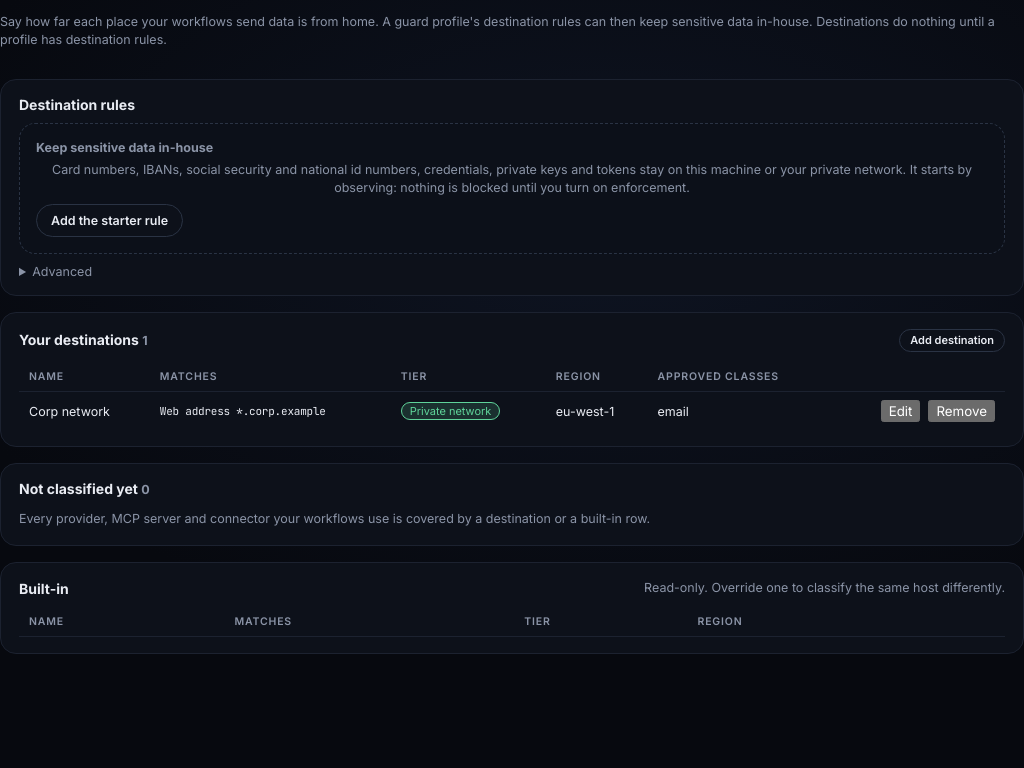
Scenario: DataDestinationsView › shows the API's plain message when a save is refused
The width and height of the screenshot is (1024, 768).
expect the table named "Your destinations" is shown: met, box x1=19 y1=362 x2=1005 y2=430
Click the button "Add destination" at (952, 341), box x1=899 y1=329 x2=1005 y2=352
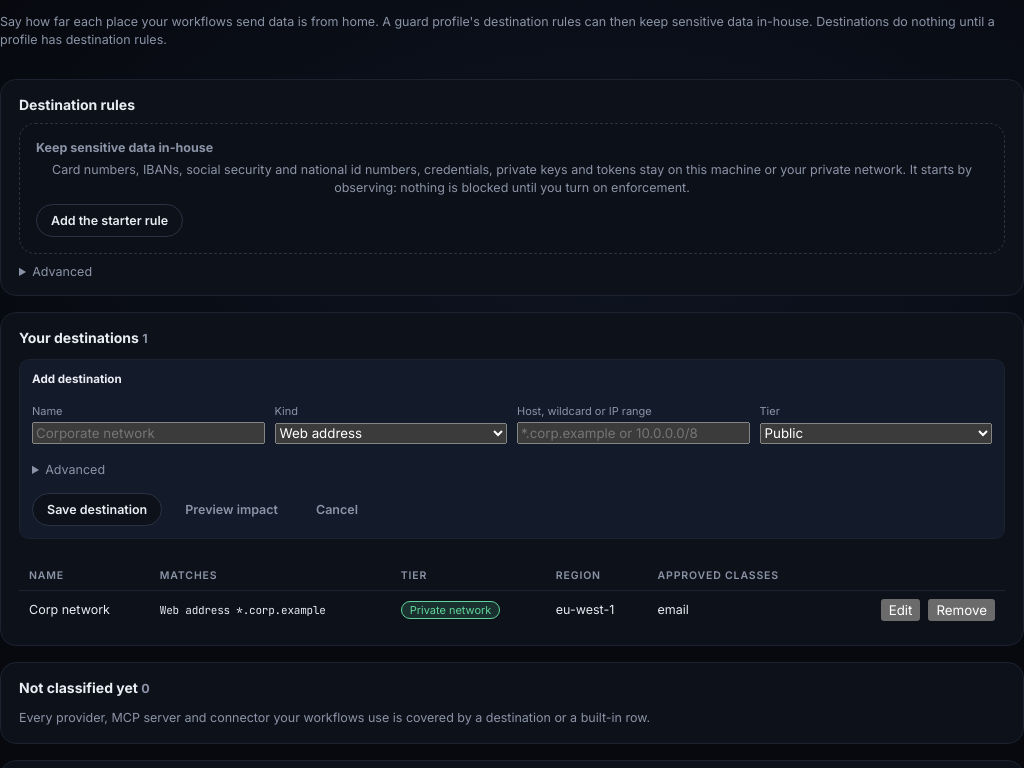
Type "Bad" into the field labelled "Name" at (148, 433), box x1=32 y1=422 x2=264 y2=444
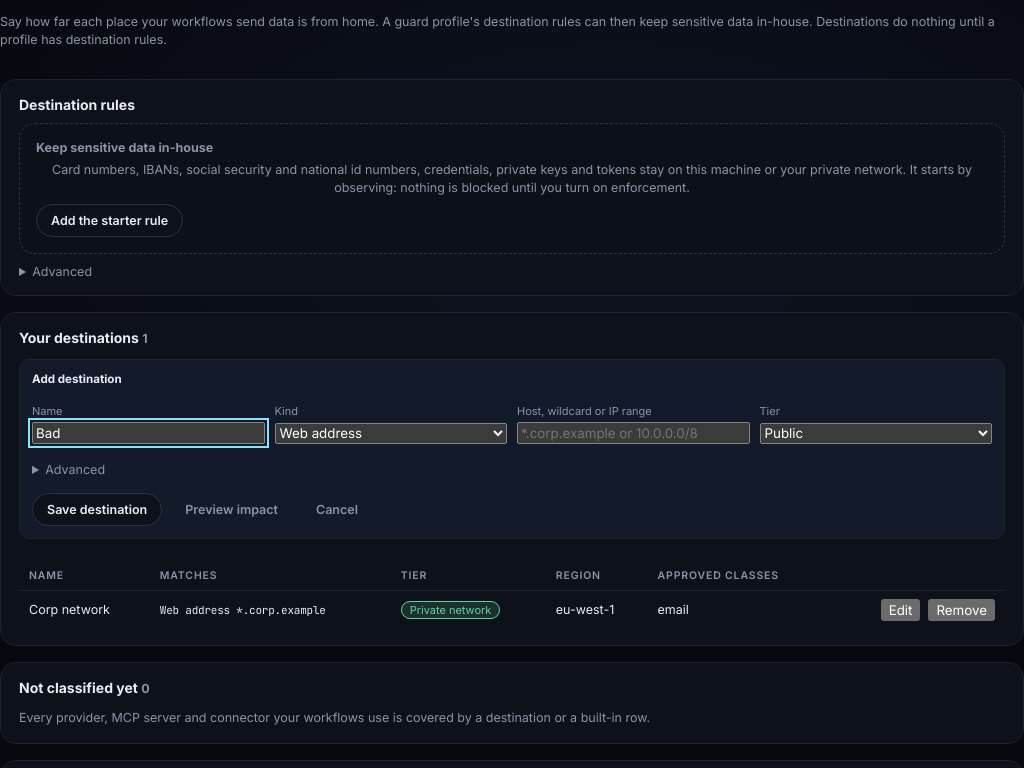
Click the button "Save destination" at (97, 509), box x1=32 y1=493 x2=162 y2=526
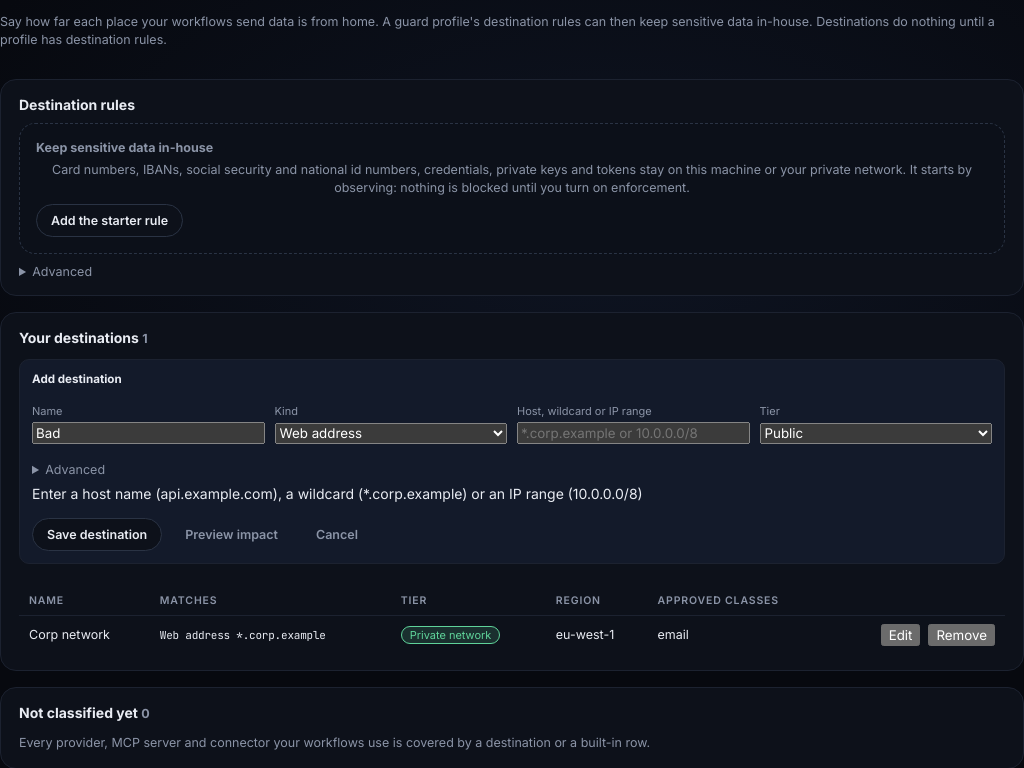
expect the message shows "Enter a host name": met, box x1=32 y1=485 x2=643 y2=502
